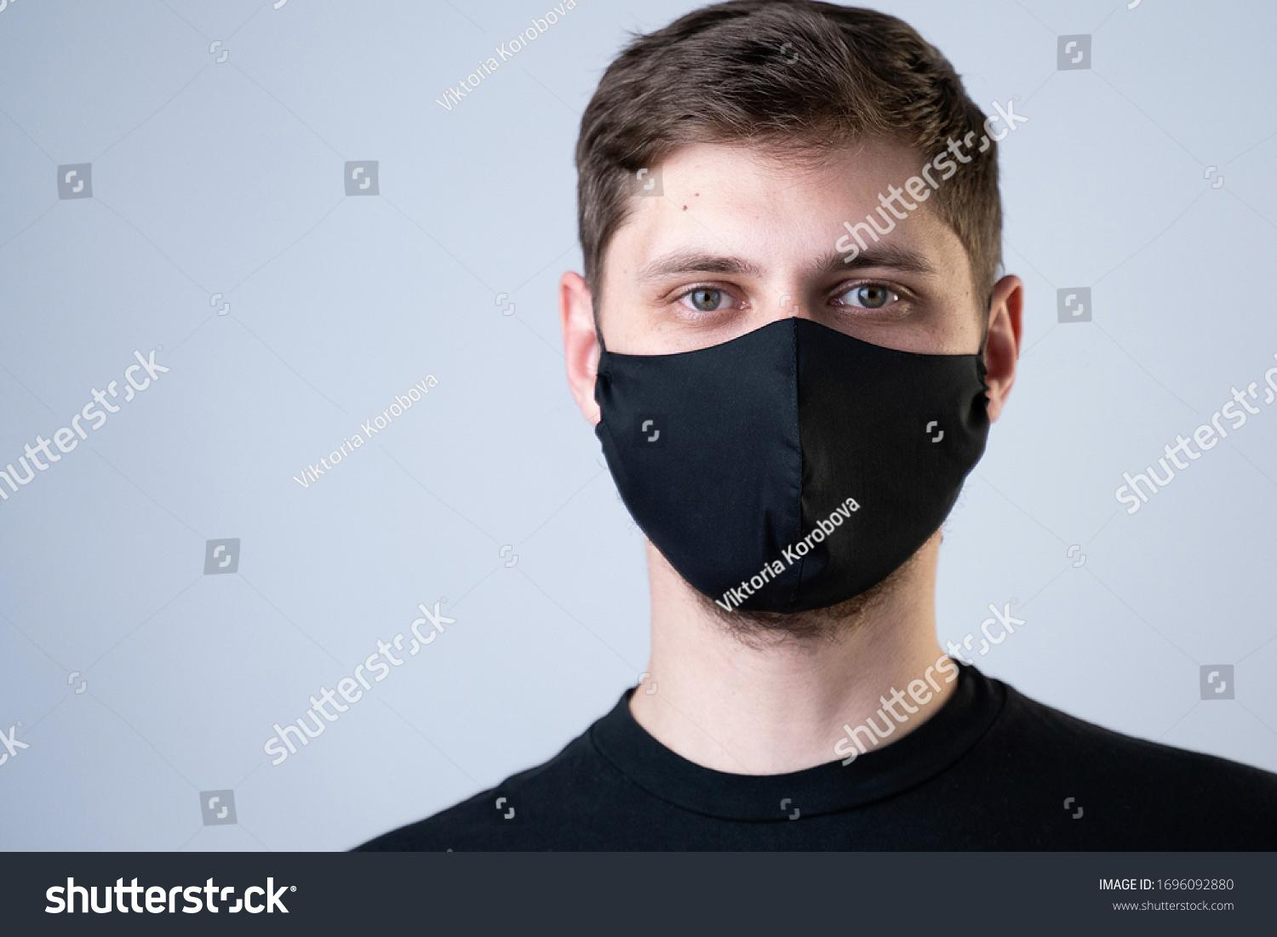mask: (585, 304, 999, 636)
